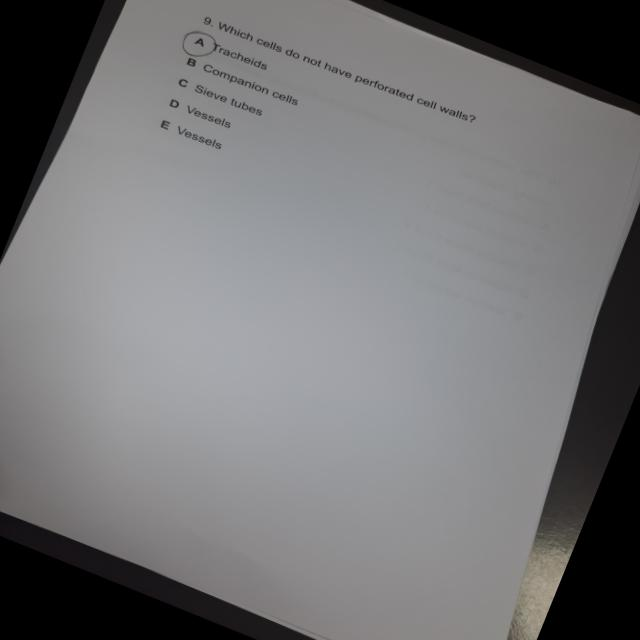A: (175, 25, 224, 67)
